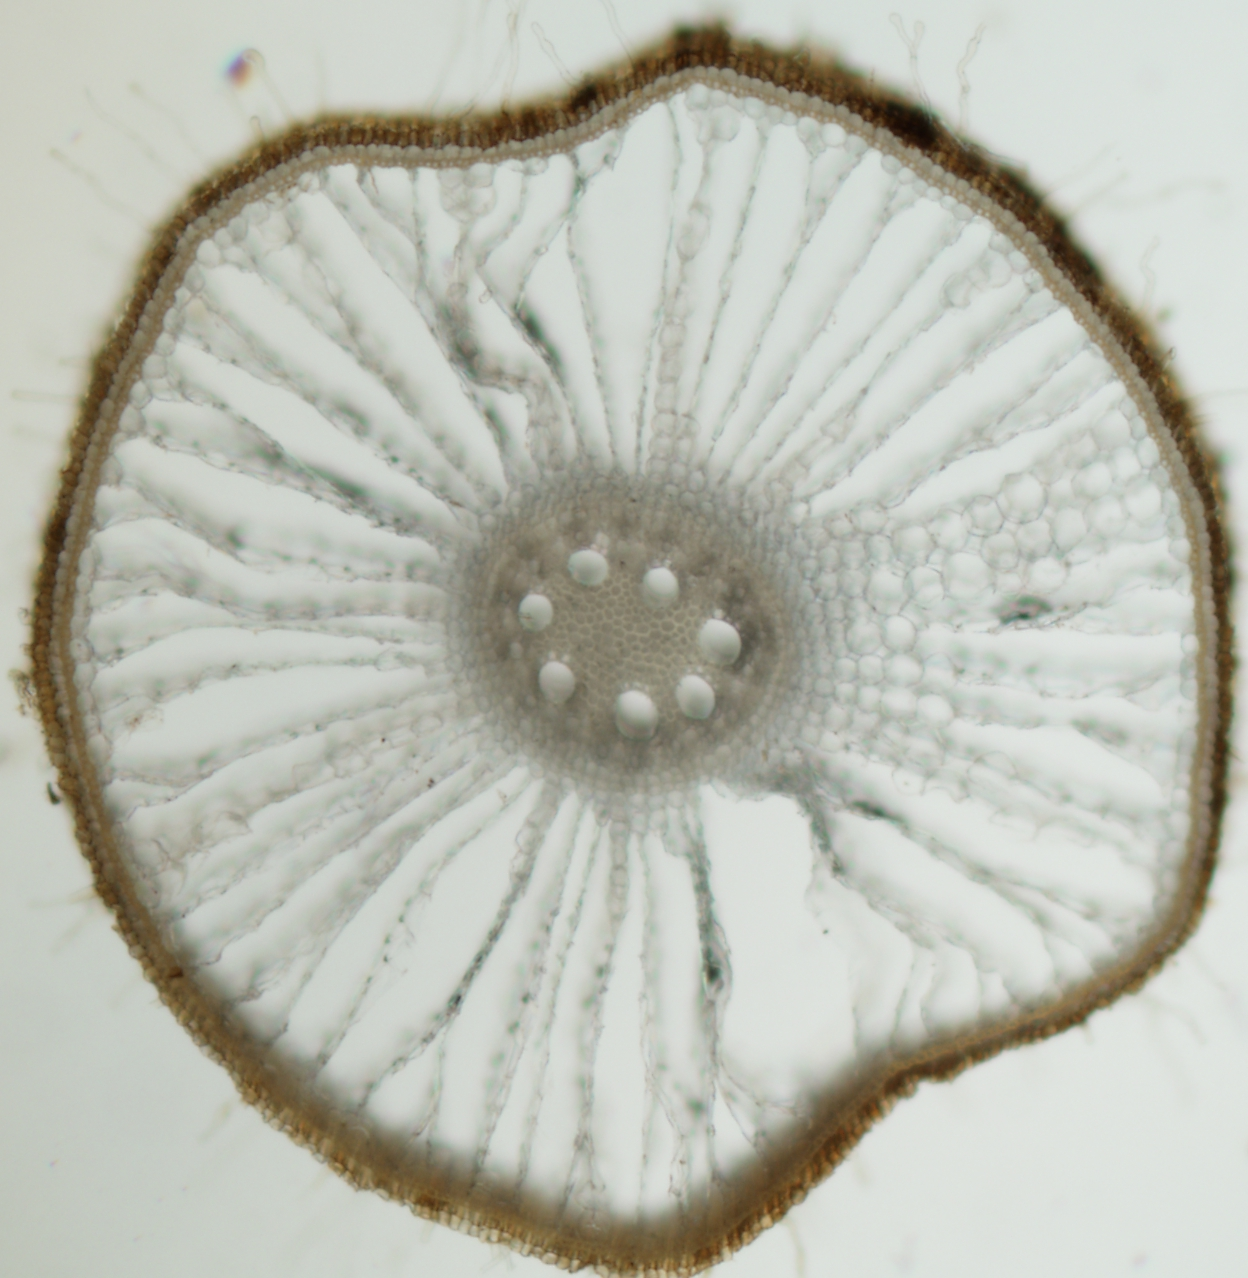lm: (613, 690, 657, 738), (697, 620, 741, 665), (677, 674, 715, 717), (537, 661, 575, 704), (567, 549, 608, 585), (642, 567, 678, 608), (518, 593, 553, 633)
